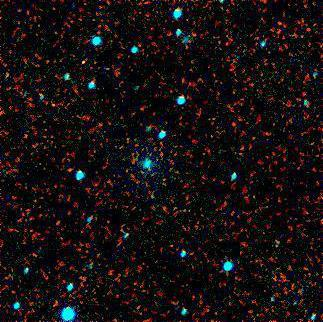star: (138, 181, 168, 211)
